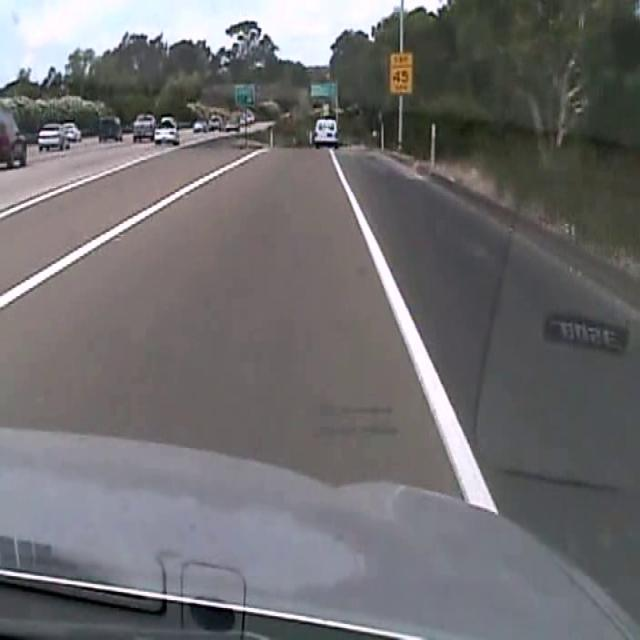speedLimit45: (388, 50, 413, 94)
